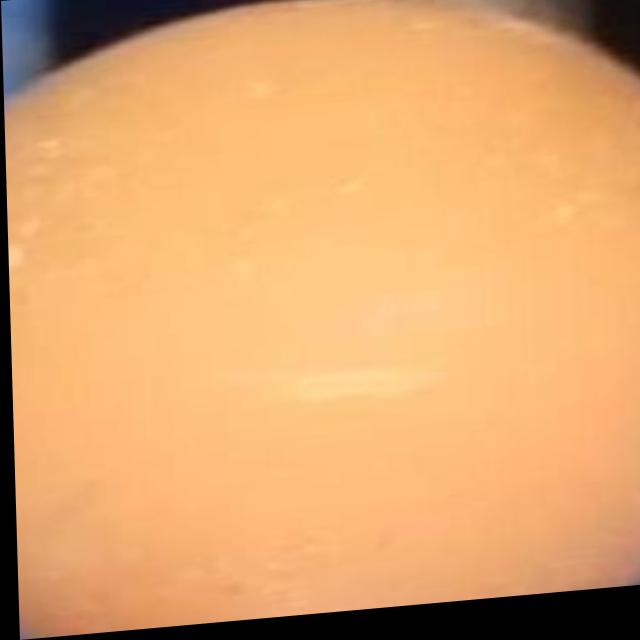fresh: (1, 3, 640, 640)
